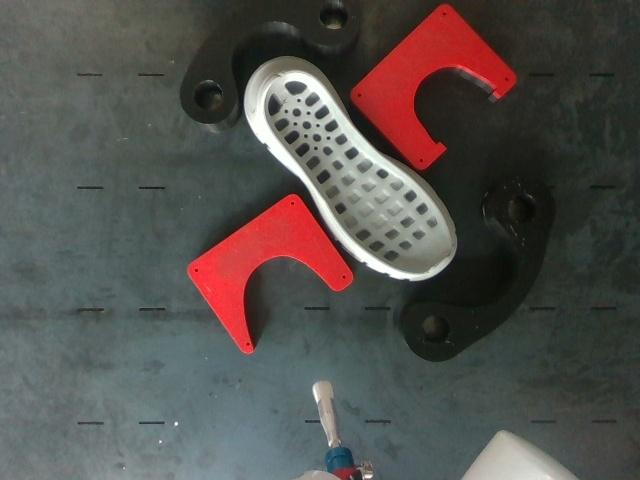shoes: (264, 72, 451, 273)
